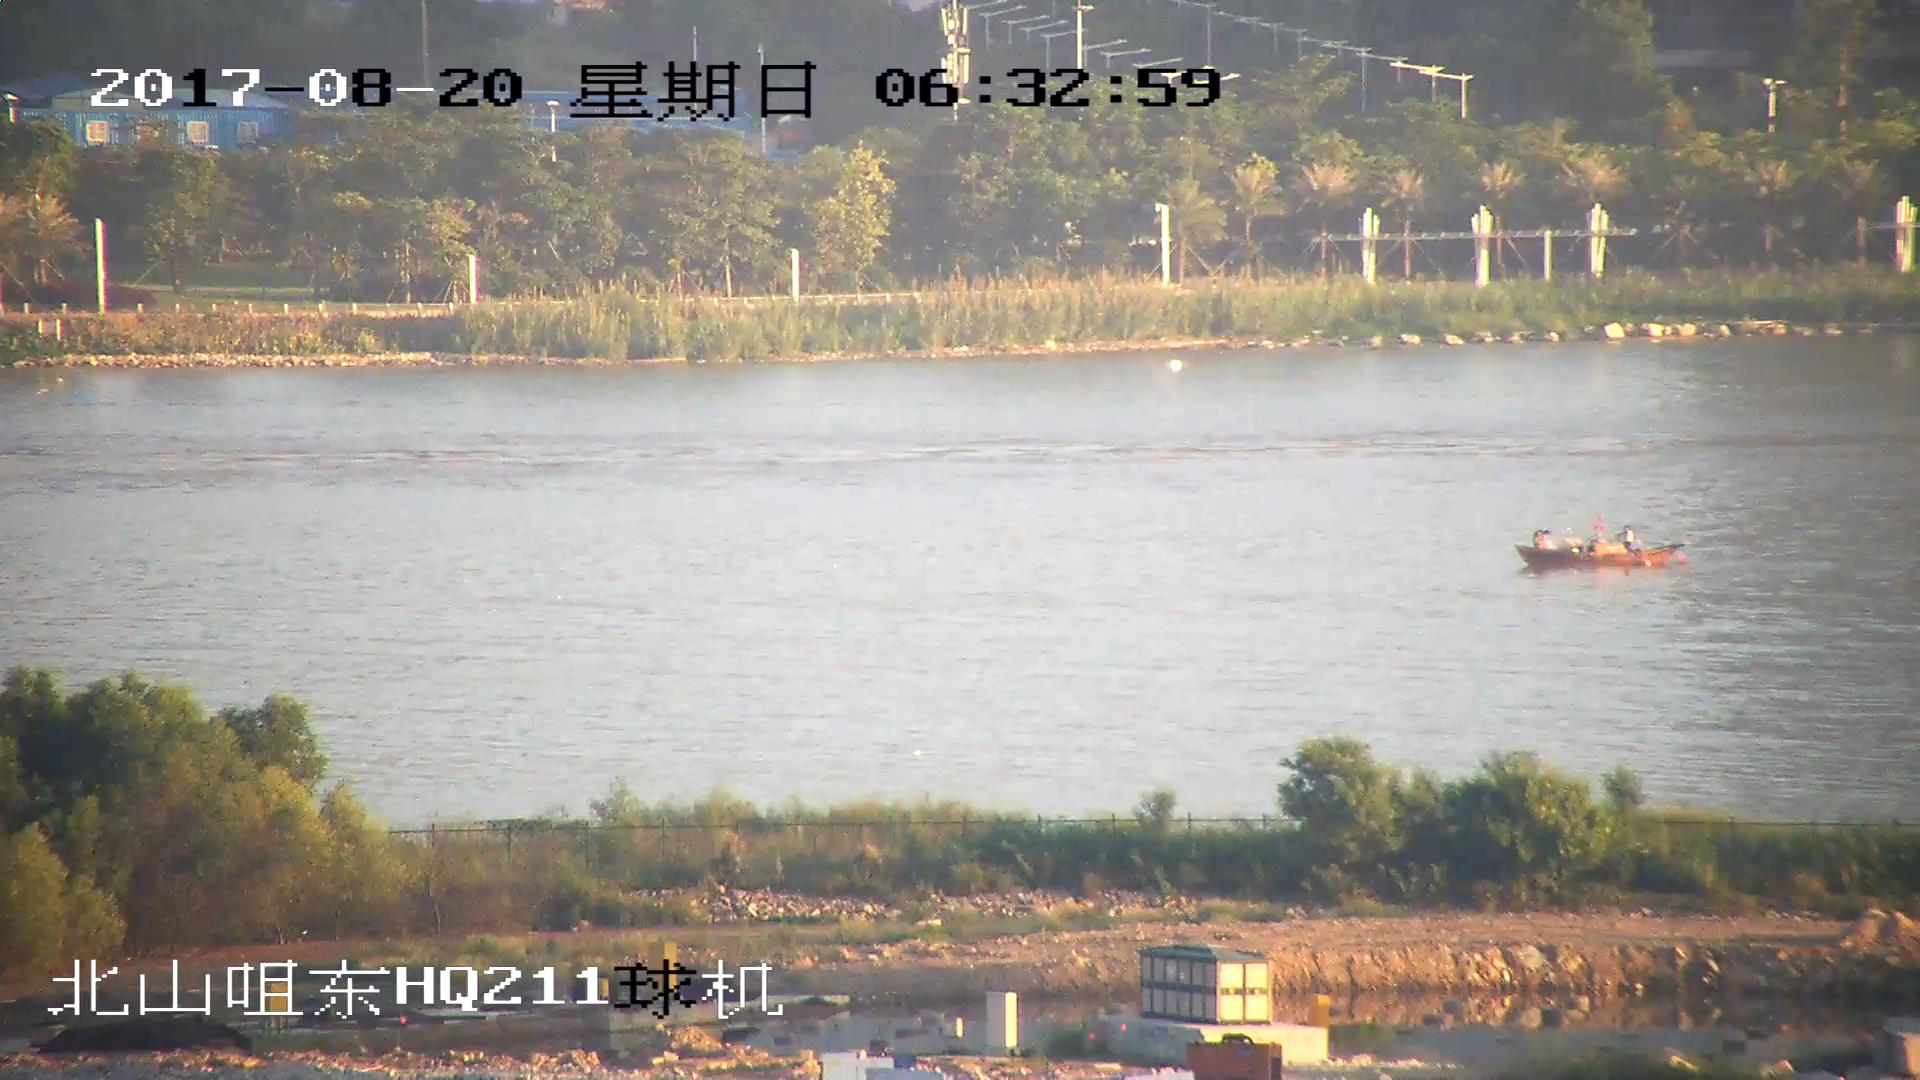fishing boat: (1517, 523, 1682, 573)
